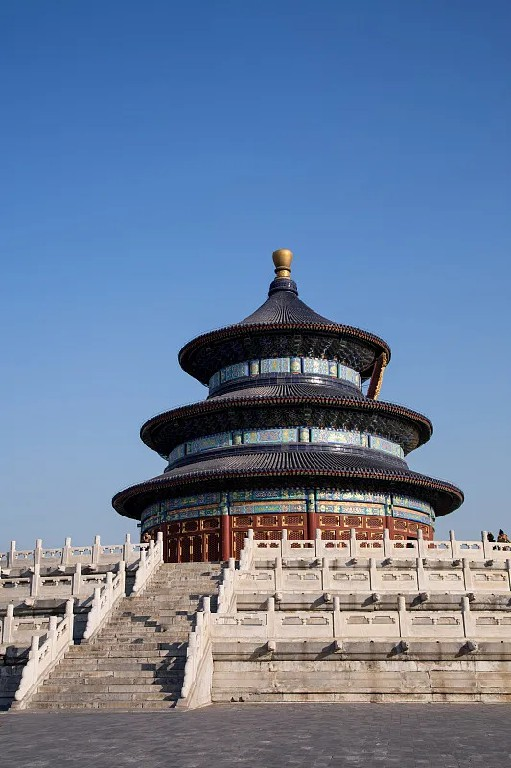Heaven: (113, 249, 465, 560)
